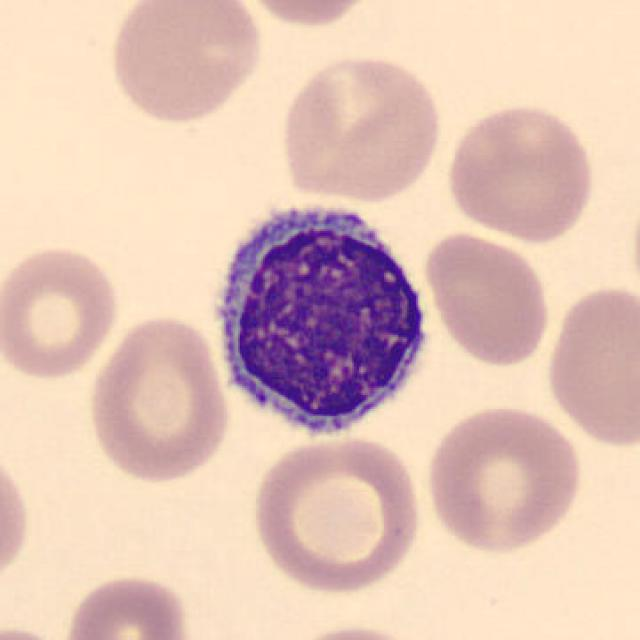Lymphocyte: (197, 187, 443, 451)
RBC: (245, 432, 427, 596), (83, 310, 233, 487), (276, 51, 446, 205), (421, 400, 587, 557), (441, 99, 601, 245), (103, 0, 265, 127), (421, 228, 553, 368), (0, 239, 124, 384), (542, 278, 640, 452), (59, 569, 197, 640), (0, 441, 34, 594), (234, 0, 386, 32), (275, 620, 433, 640)
